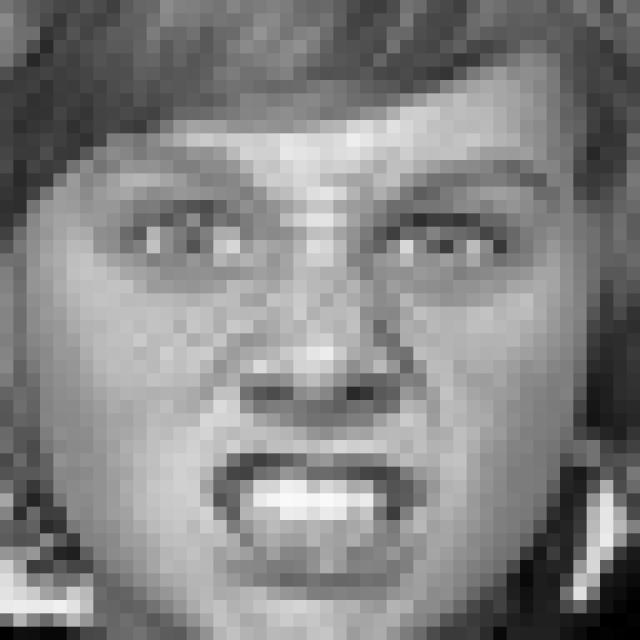angry: (84, 141, 562, 568)
